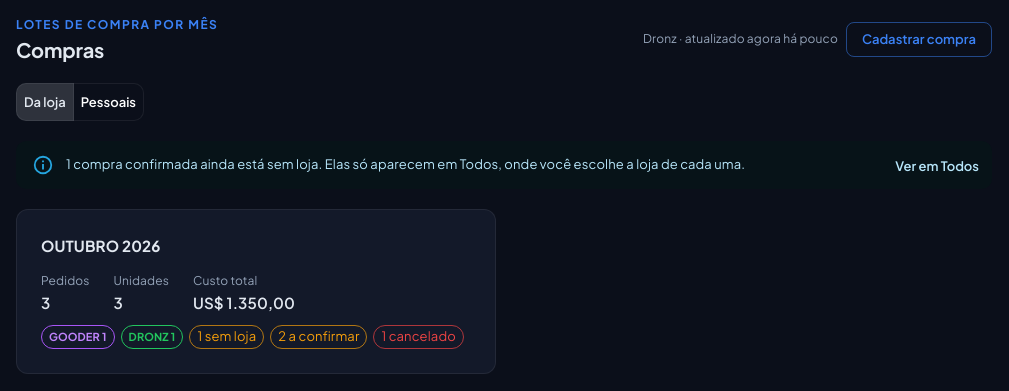
Test case: Compras: lotes por mês › com uma loja no topo, avisa das compras sem loja e leva para Todos
Expected: the text "1 compra confirmada ainda está sem loja" is shown, [66,156,318,172]
Click the button "Ver em Todos". click: (937, 167)
box: [890,151,984,182]
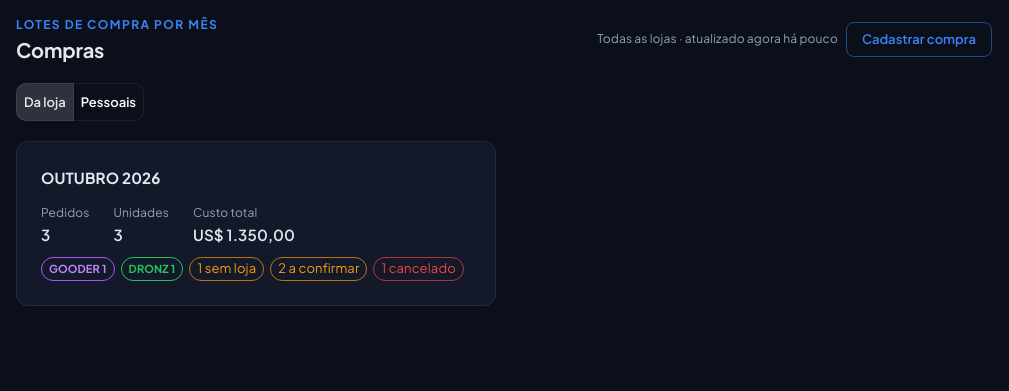
Expected: the text "ainda está sem loja" is gone
